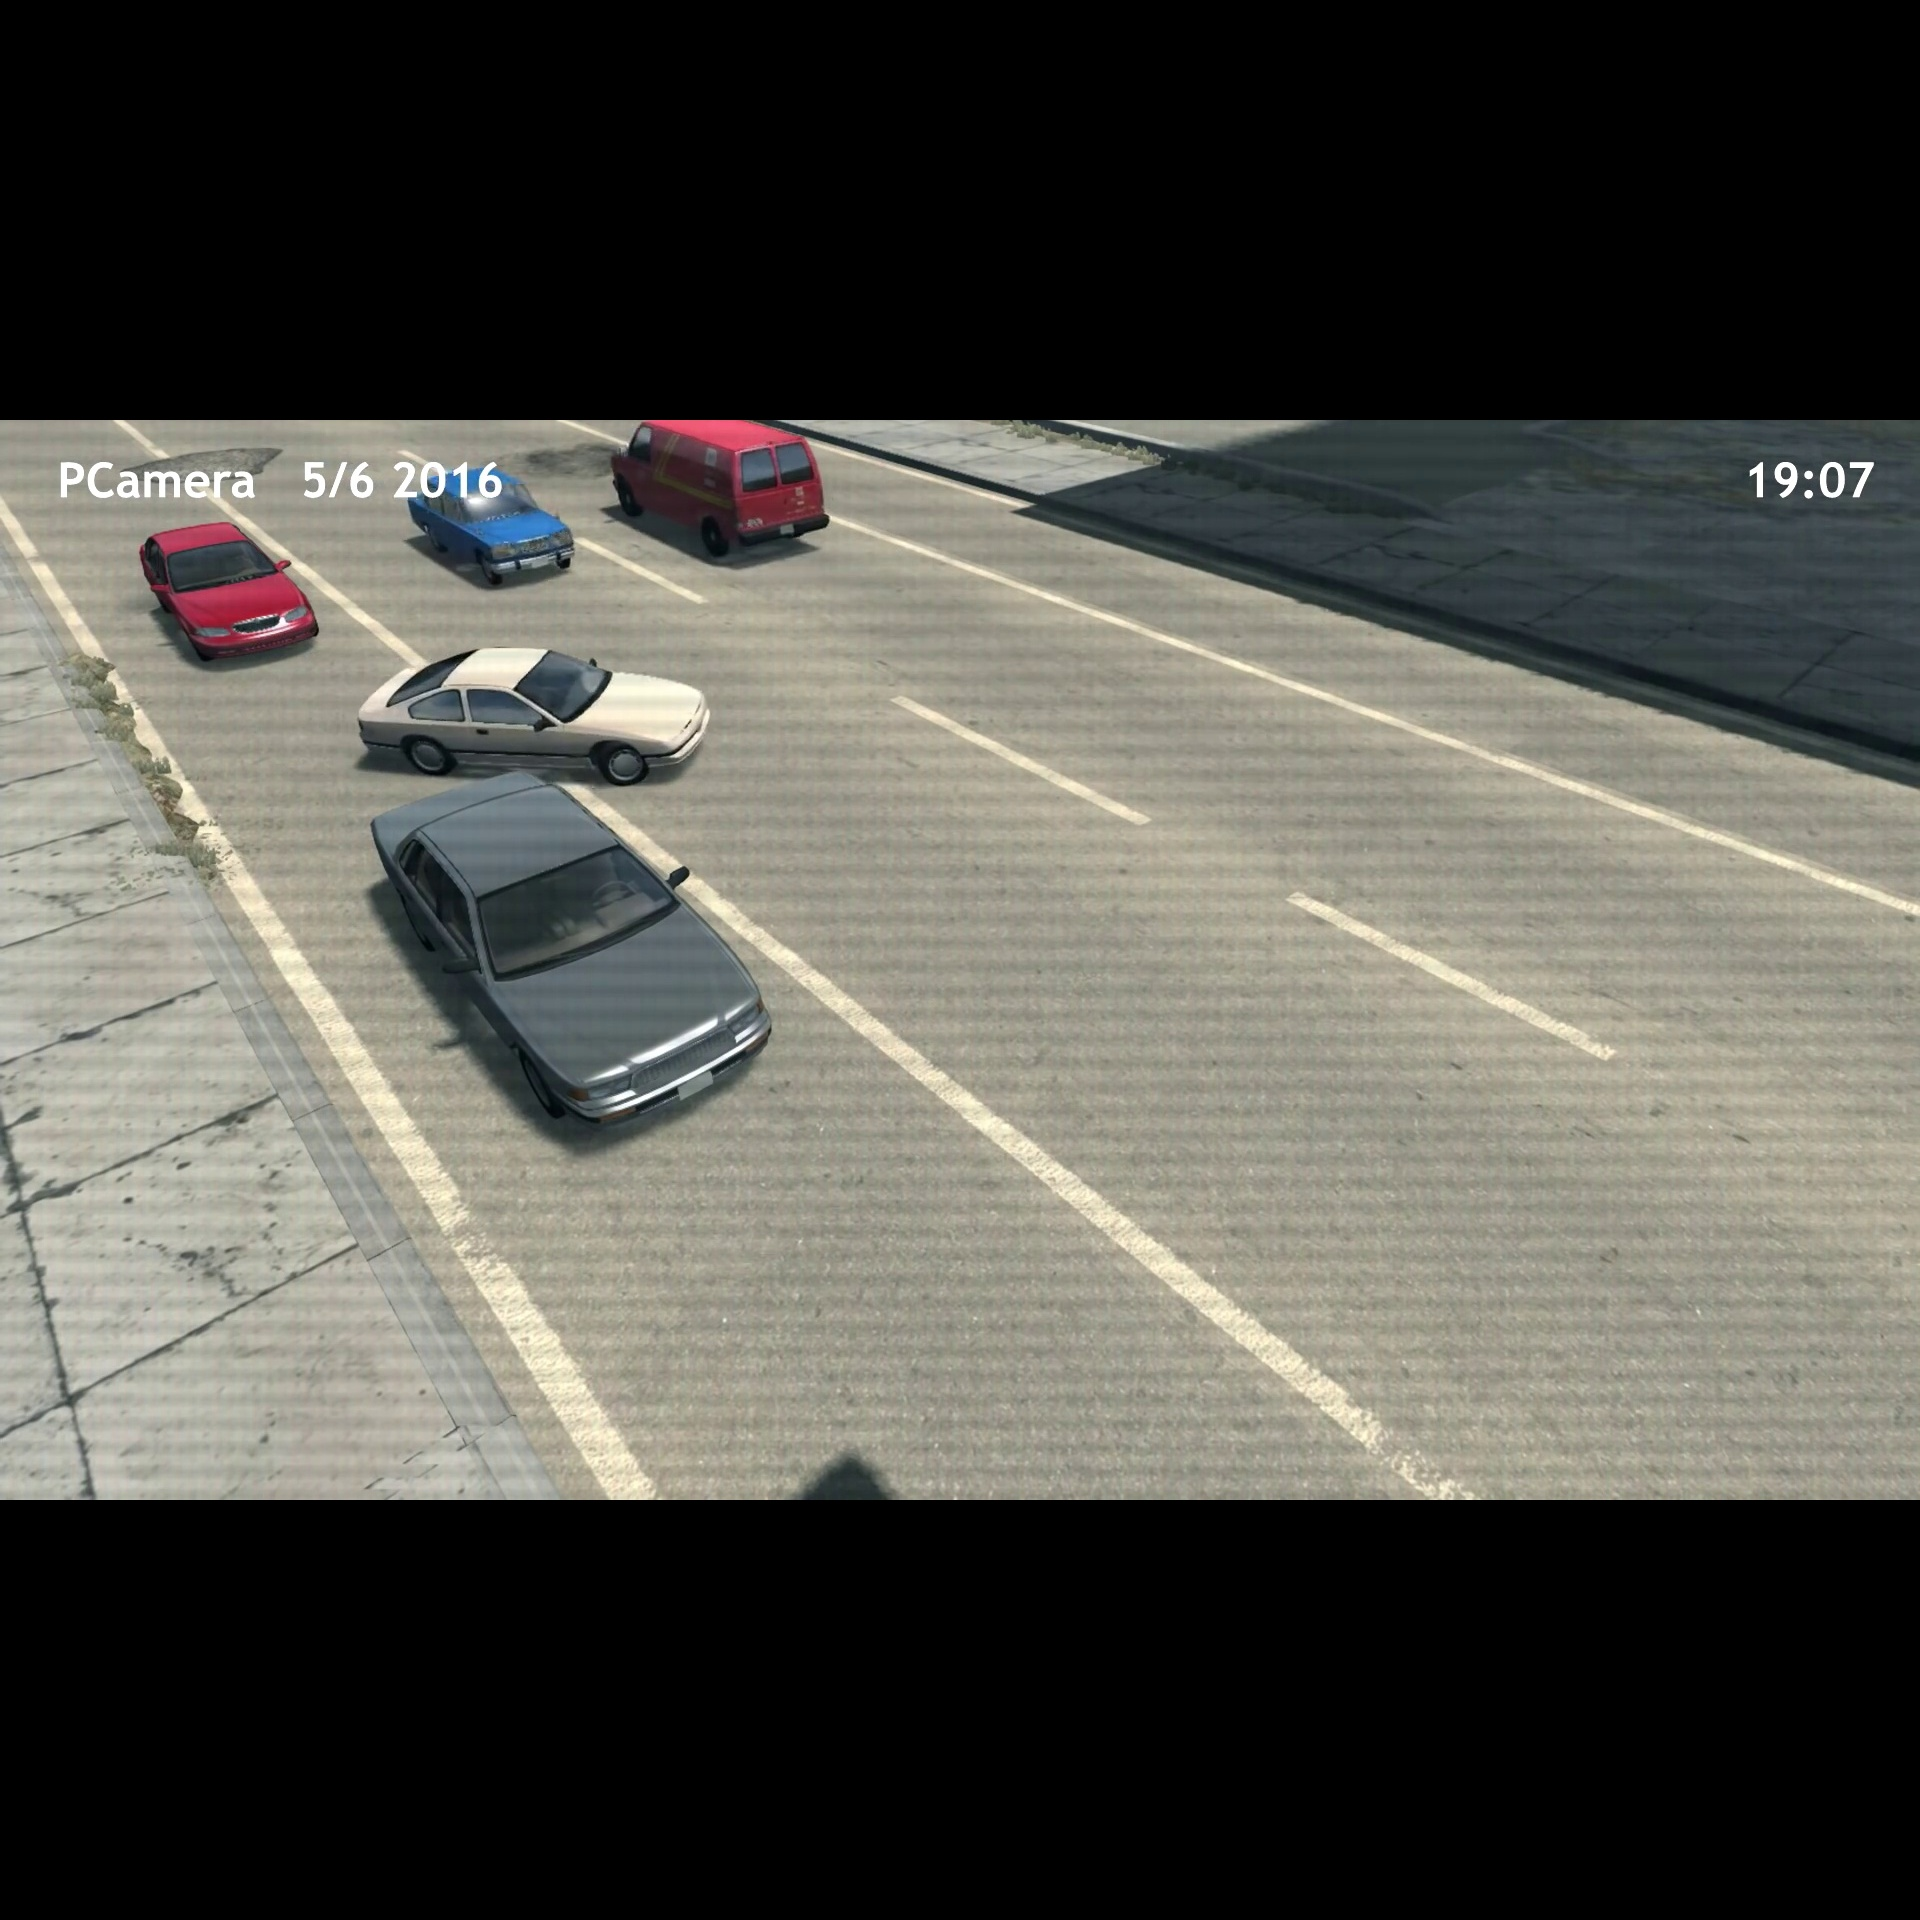vehicle: (359, 768, 781, 1139), (348, 635, 717, 782), (607, 418, 835, 571), (132, 515, 334, 675), (406, 464, 587, 596)
